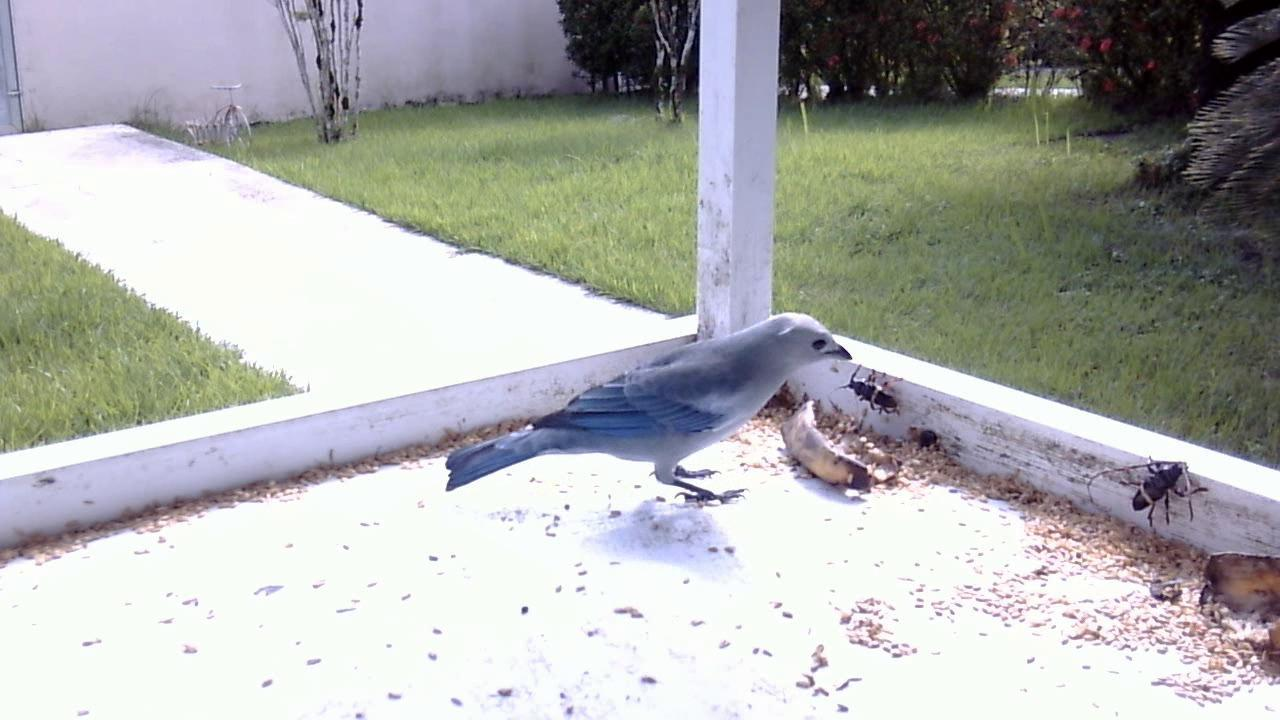sanhaco_da_amazonia: (424, 307, 876, 529)
